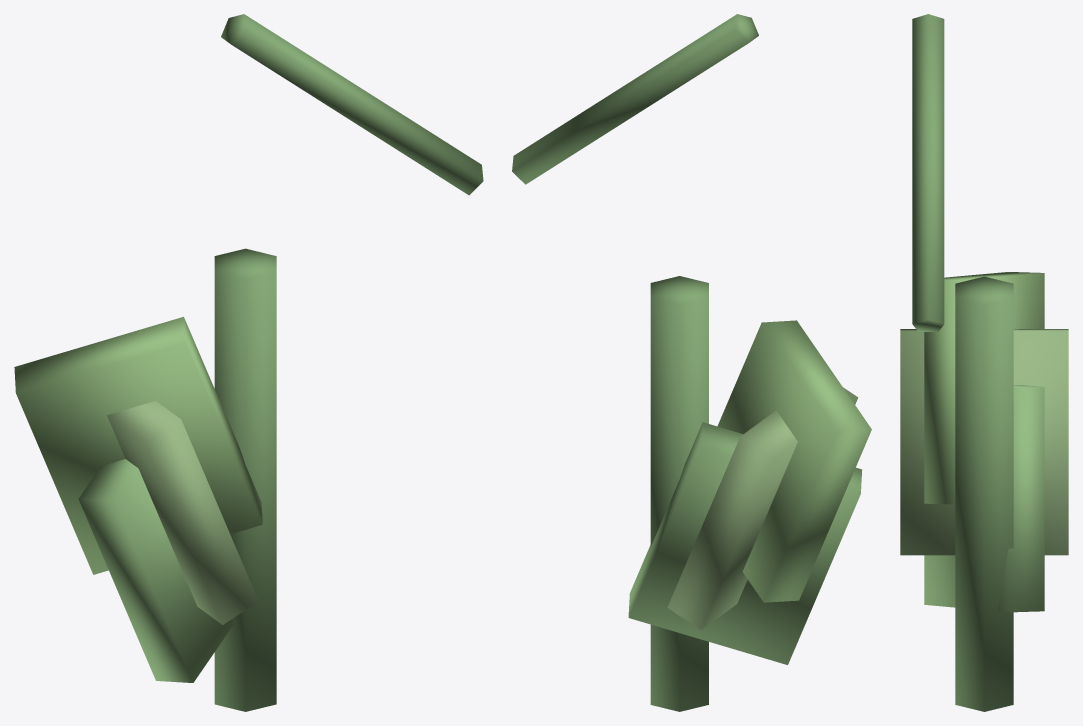
Rendered from plant_pumpkin_seedling.glb.
3 renders of one model, left to right at view 1: azimuth 30°, elevation 25°; view 2: azimuth 150°, elevation 25°; view 3: azimuth 270°, elevation 25°, orthographic. The views are drawn at different scales.
Visible parts, largest first — view 1: leaf2, stem, leaf0, leaf1, tendril; view 2: leaf2, stem, leaf0, leaf1, tendril; view 3: stem, leaf1, tendril, leaf0, leaf2.
Boxes of the visible parts, x1,y1,x2,y2 form: leaf2: [14, 316, 262, 574]; stem: [214, 248, 276, 711]; leaf0: [78, 459, 233, 682]; leaf1: [107, 401, 258, 624]; tendril: [221, 14, 483, 195]; leaf2: [717, 320, 871, 602]; stem: [650, 276, 708, 711]; leaf0: [628, 422, 862, 664]; leaf1: [667, 387, 858, 629]; tendril: [512, 14, 758, 184]; stem: [955, 276, 1013, 711]; leaf1: [900, 329, 1068, 555]; tendril: [912, 14, 944, 331]; leaf0: [924, 385, 1044, 612]; leaf2: [924, 272, 1044, 504].
Bounding box in the file's own units: 0.1637 × 0.2632 × 0.06.
